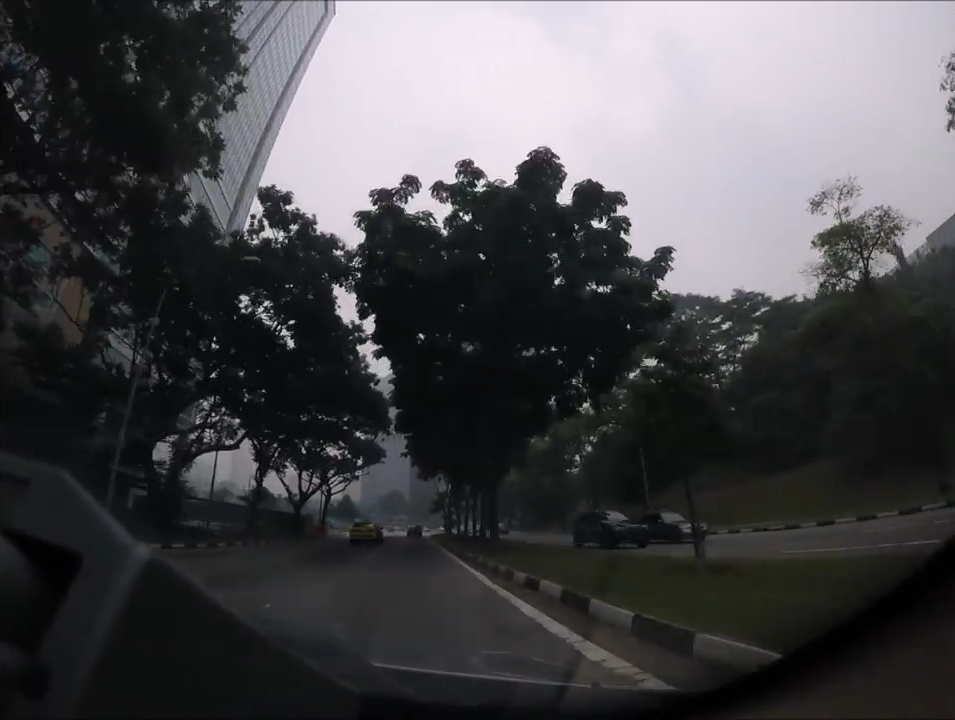car: (573, 508, 649, 552), (630, 510, 710, 545), (345, 520, 382, 544)
